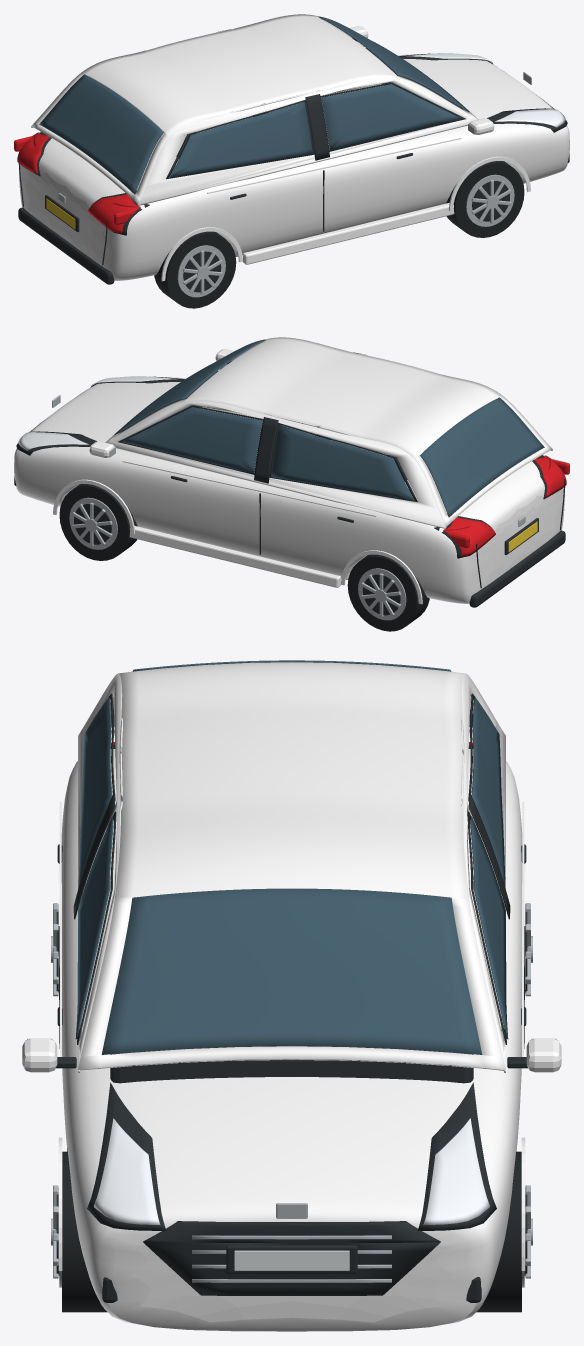
The model's file is ford-fiesta.glb.
3 renders of one model, top to bottom at view 1: azimuth 30°, elevation 25°; view 2: azimuth 150°, elevation 25°; view 3: azimuth 270°, elevation 25°, orthographic. The views are drawn at different scales.
Parts seen in each view (by area): view 1: FleetBody, FleetGlass, FleetTrim, FleetRubber, FleetLights; view 2: FleetBody, FleetGlass, FleetTrim, FleetRubber, FleetLights; view 3: FleetBody, FleetGlass, FleetTrim, FleetLights, FleetInterior, FleetRubber.
Part boxes in pixels (x1=…): FleetBody: x1=19, y1=14, x2=569, y2=281; FleetGlass: x1=39, y1=16, x2=469, y2=194; FleetTrim: x1=18, y1=29, x2=569, y2=297; FleetRubber: x1=154, y1=161, x2=524, y2=308; FleetLights: x1=14, y1=53, x2=565, y2=233; FleetBody: x1=14, y1=337, x2=564, y2=604; FleetGlass: x1=114, y1=339, x2=544, y2=517; FleetTrim: x1=14, y1=352, x2=565, y2=620; FleetRubber: x1=59, y1=484, x2=429, y2=631; FleetLights: x1=18, y1=376, x2=569, y2=556; FleetBody: x1=22, y1=662, x2=561, y2=1331; FleetGlass: x1=75, y1=660, x2=508, y2=1054; FleetTrim: x1=27, y1=693, x2=556, y2=1302; FleetLights: x1=94, y1=742, x2=489, y2=1270; FleetInterior: x1=110, y1=1046, x2=473, y2=1083; FleetRubber: x1=62, y1=1151, x2=521, y2=1312.
Size of the model in its own units: 4.04 by 1.48 by 2.01.
